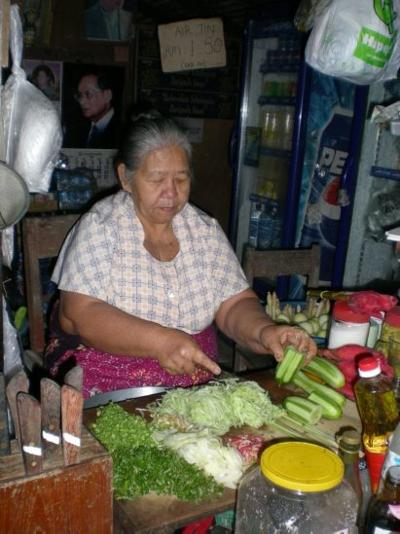person: (48, 110, 319, 409)
